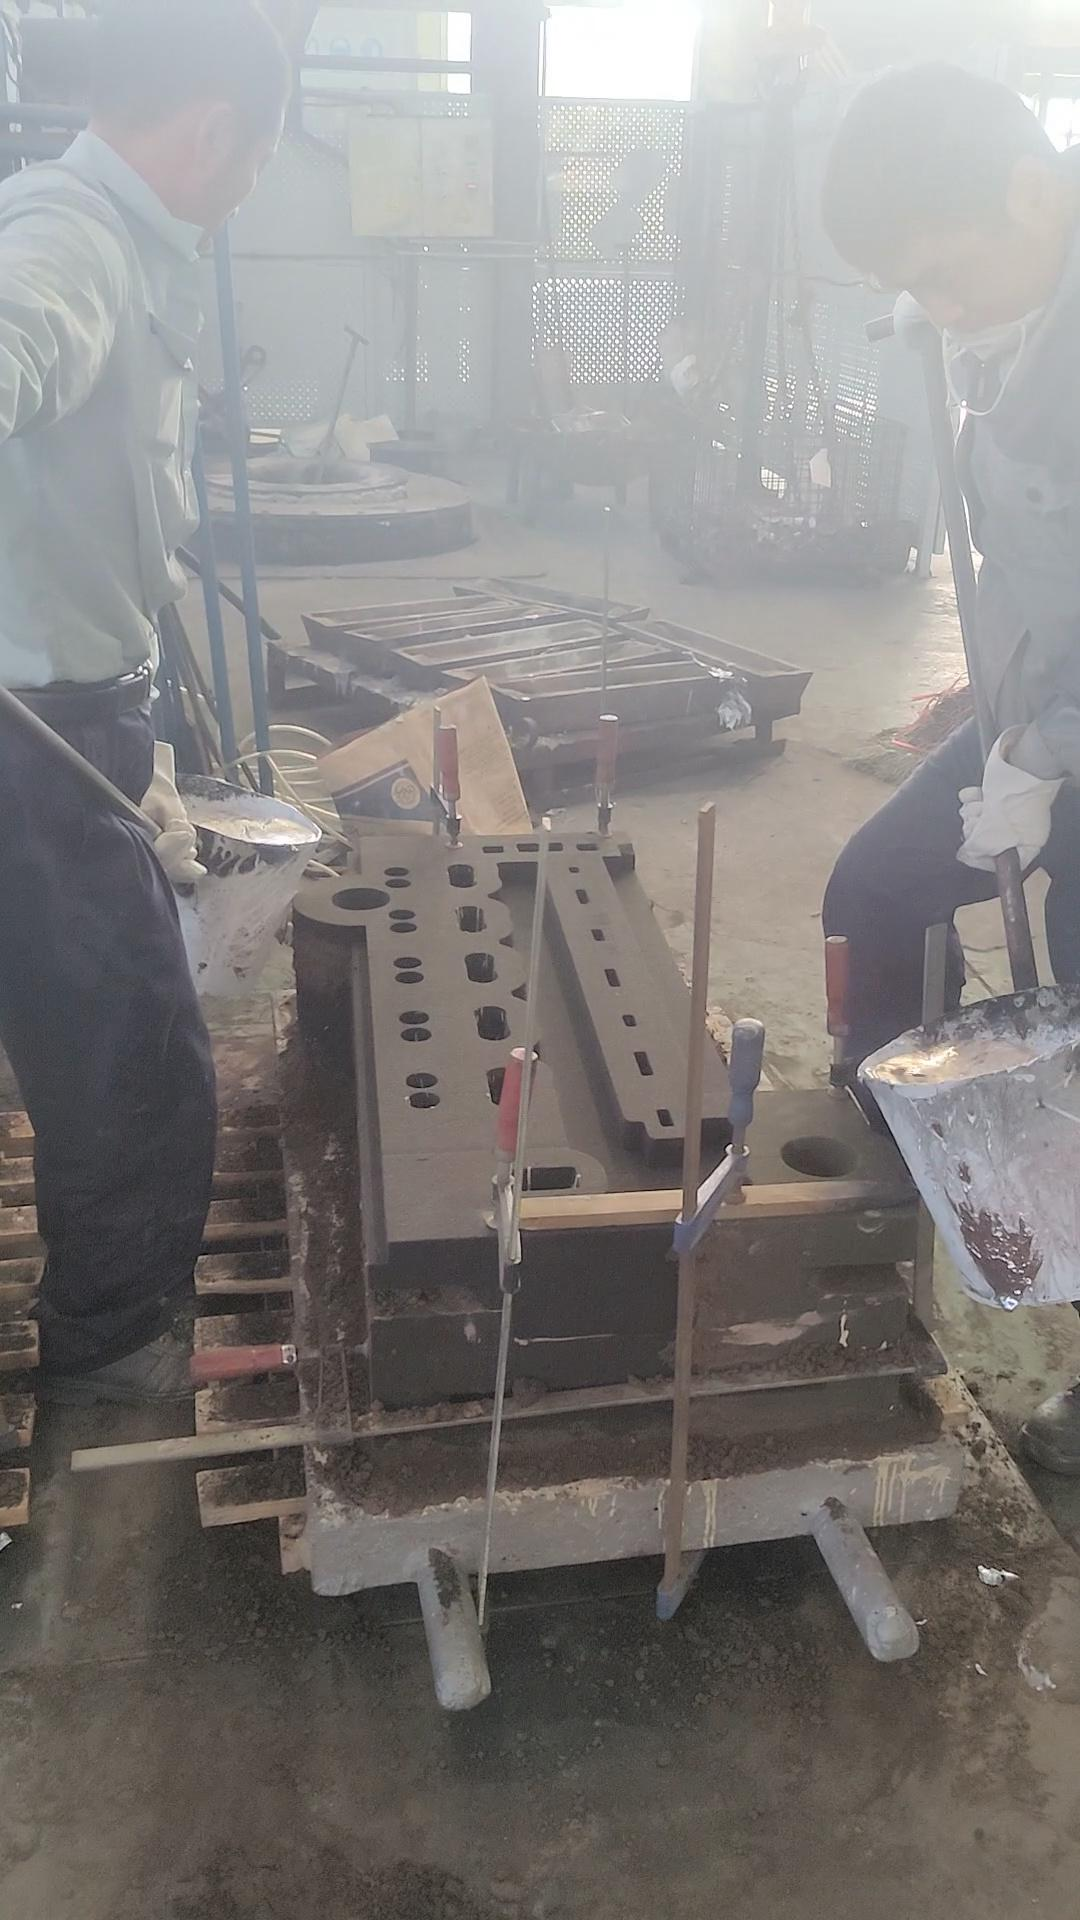pouring hole: (779, 1137, 858, 1178), (331, 887, 390, 910)
